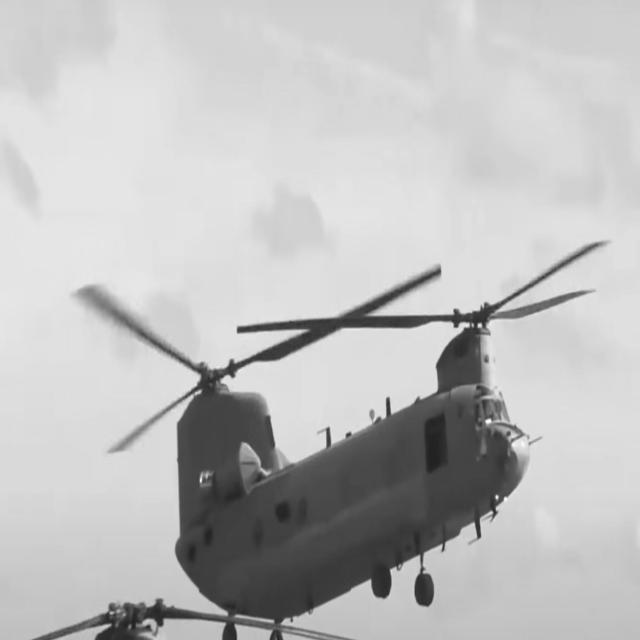Helicopter: (76, 243, 605, 635)
